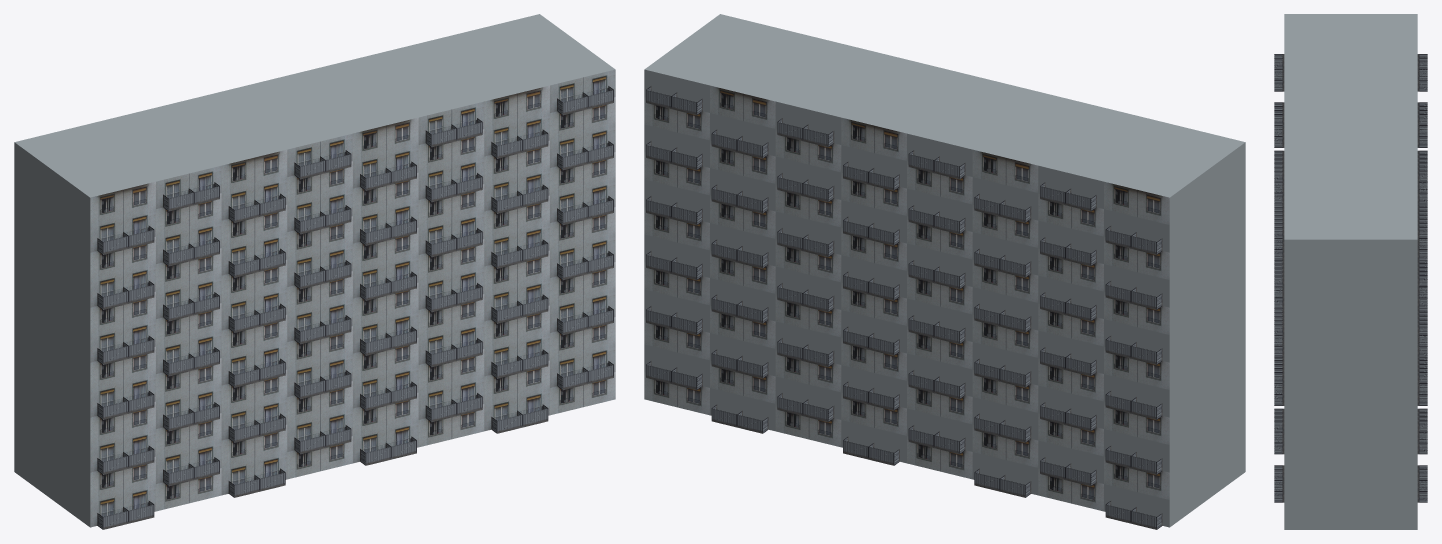
Rendered from maisel.obj.
The picture shows the model from 3 angles, left to right: view 1: azimuth 30°, elevation 25°; view 2: azimuth 150°, elevation 25°; view 3: azimuth 270°, elevation 25°; orthographic projection. The views are drawn at different scales.
Parts seen in each view (by area): view 1: Building; view 2: Building; view 3: Building.
Part boxes in pixels (x1,y1,x2,y2): Building: [14, 14, 615, 529]; Building: [644, 14, 1245, 529]; Building: [1274, 14, 1427, 529].
Bounding box in the file's own units: 8 × 4.8 × 2.3.
